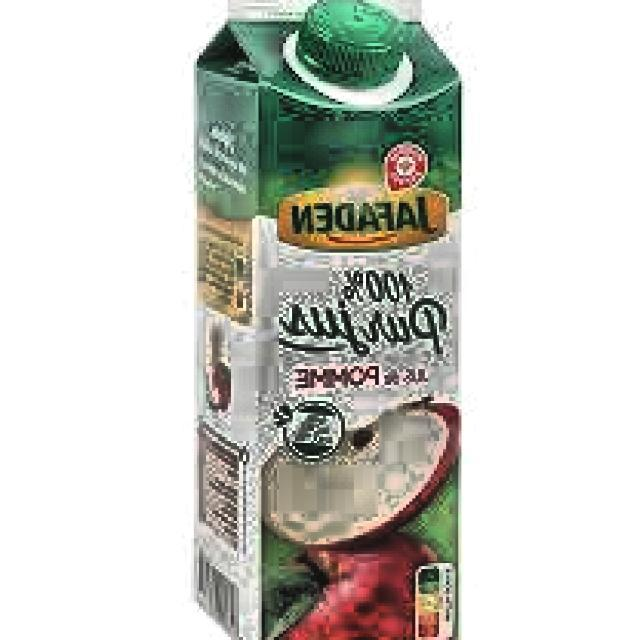cardboard: (190, 0, 468, 640)
